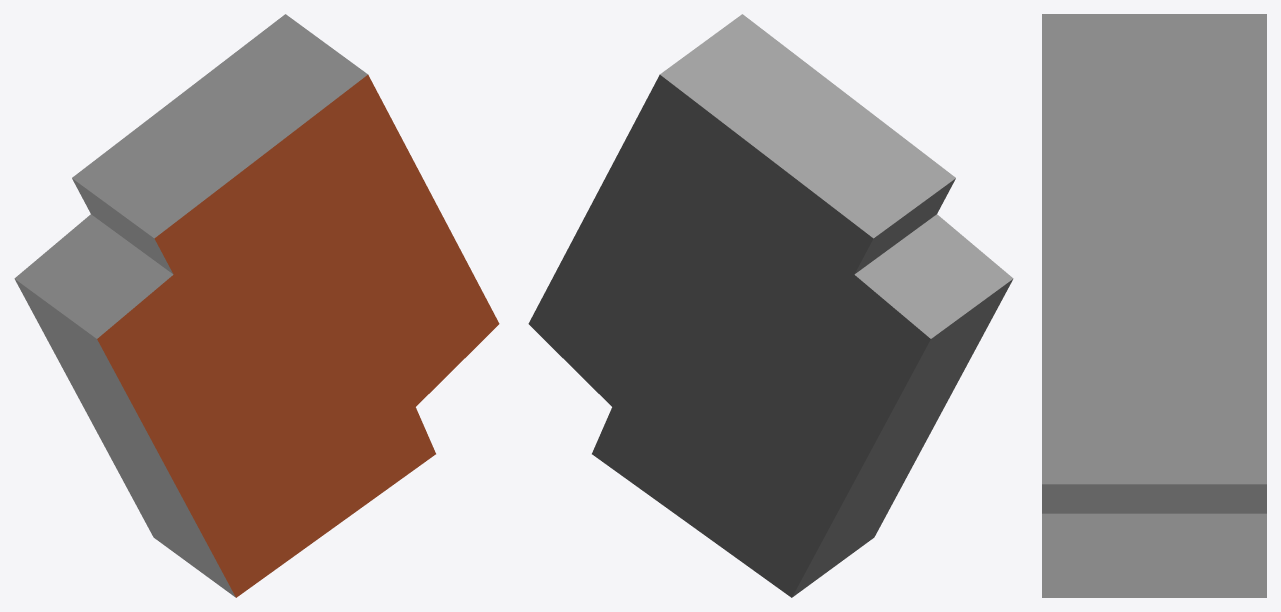
The model's file is construction_2505_assumed_A_Casa_h6m.obj.
3 renders of one model, left to right at view 1: azimuth 30°, elevation 25°; view 2: azimuth 150°, elevation 25°; view 3: azimuth 270°, elevation 25°, orthographic. The views are drawn at different scales.
Visible parts, largest first — view 1: construction_2505_assumed_A_Casa; view 2: construction_2505_assumed_A_Casa; view 3: construction_2505_assumed_A_Casa.
Boxes of the visible parts, x1=… form: construction_2505_assumed_A_Casa: x1=14, y1=14, x2=499, y2=597; construction_2505_assumed_A_Casa: x1=528, y1=14, x2=1013, y2=597; construction_2505_assumed_A_Casa: x1=1042, y1=14, x2=1266, y2=597.
Bounding box in the file's own units: 16.88 × 19.68 × 6.
